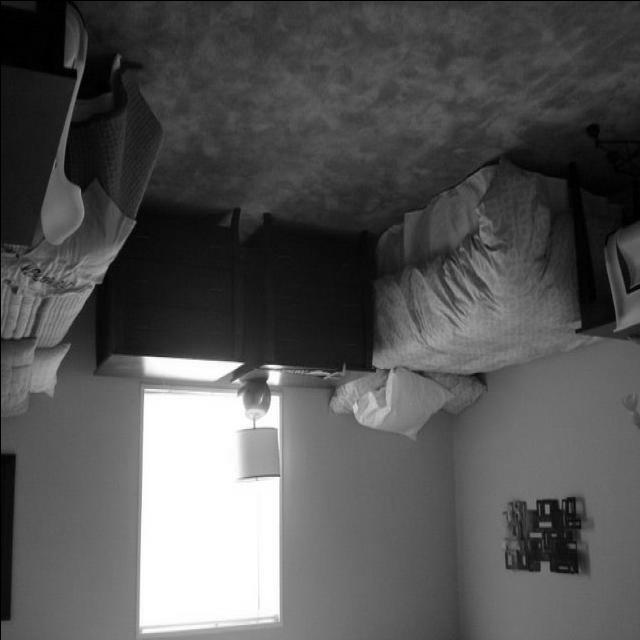table: (74, 182, 242, 392), (236, 219, 380, 384)
